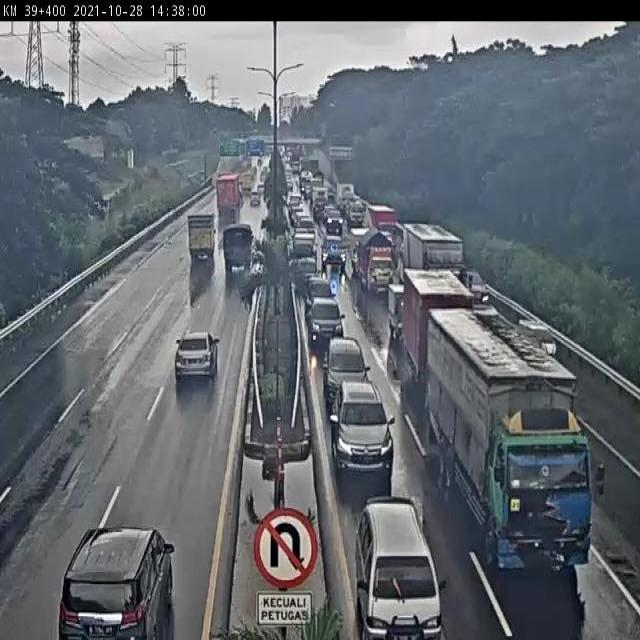big truck: (424, 304, 604, 575), (213, 178, 242, 222)
car: (57, 514, 189, 640), (354, 489, 450, 640), (330, 375, 400, 485), (319, 332, 388, 413), (168, 323, 218, 388), (309, 292, 348, 359), (511, 309, 551, 363), (304, 273, 340, 316), (319, 231, 351, 272), (294, 256, 316, 288), (326, 208, 345, 232), (248, 187, 263, 213)
small truck: (403, 268, 475, 408), (386, 280, 421, 352), (359, 229, 394, 291), (181, 212, 220, 267), (217, 230, 251, 282)
